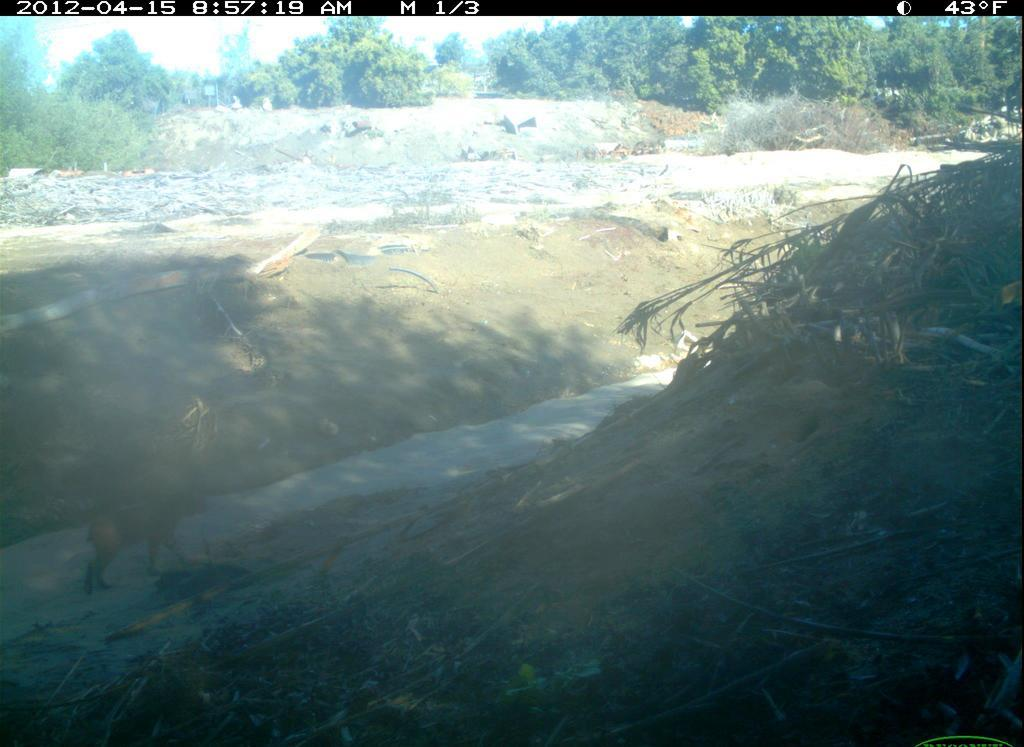bobcat: (66, 470, 236, 601)
